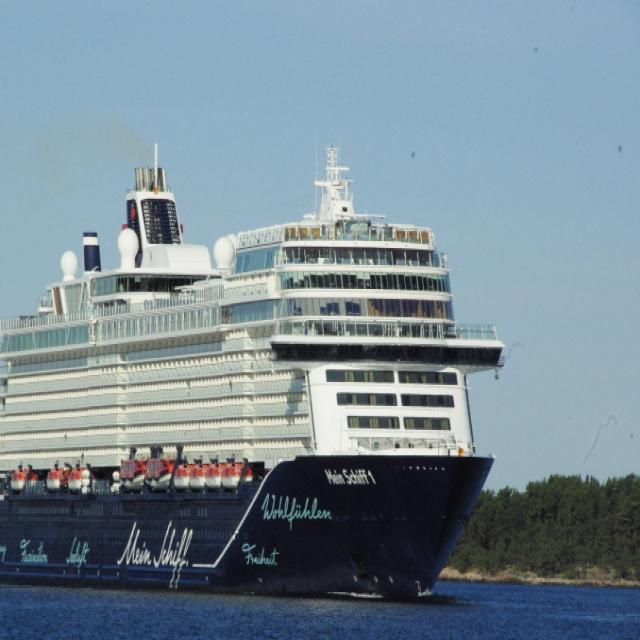cruises: (1, 142, 508, 614)
